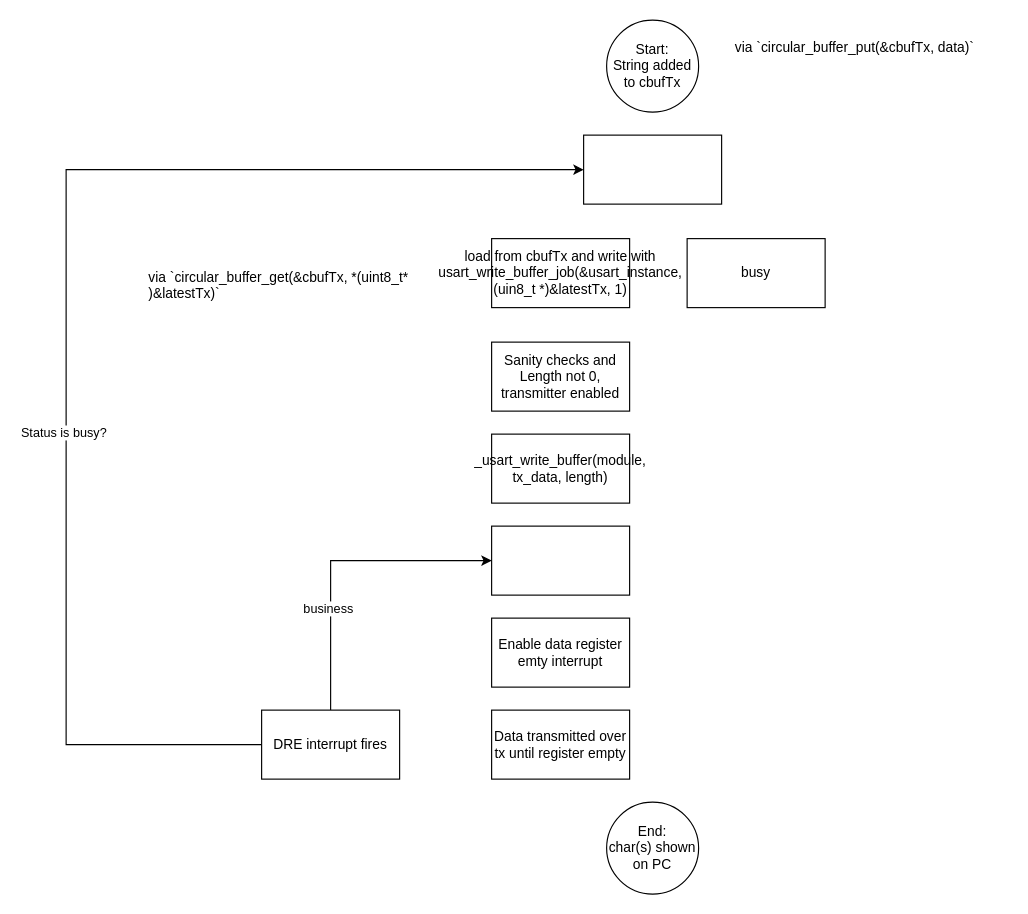
The diagram is 1028 pixels wide and 914 high, and some of its shapes have lost their labels. Here are the shapes that lost their labels. From the top down, the centre of each, then its label:
the point at 652,169: usart_get_job_status
the point at 560,560: Sanity checks and not busy. Write values to the usart hardware module
